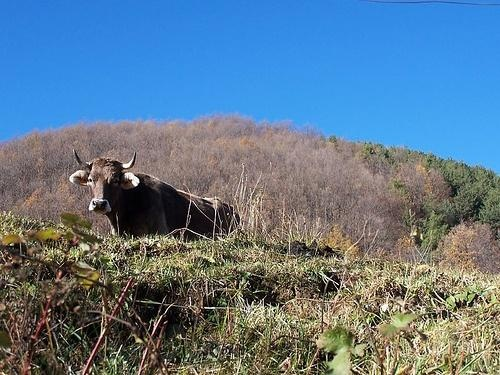cow: (66, 149, 240, 237)
